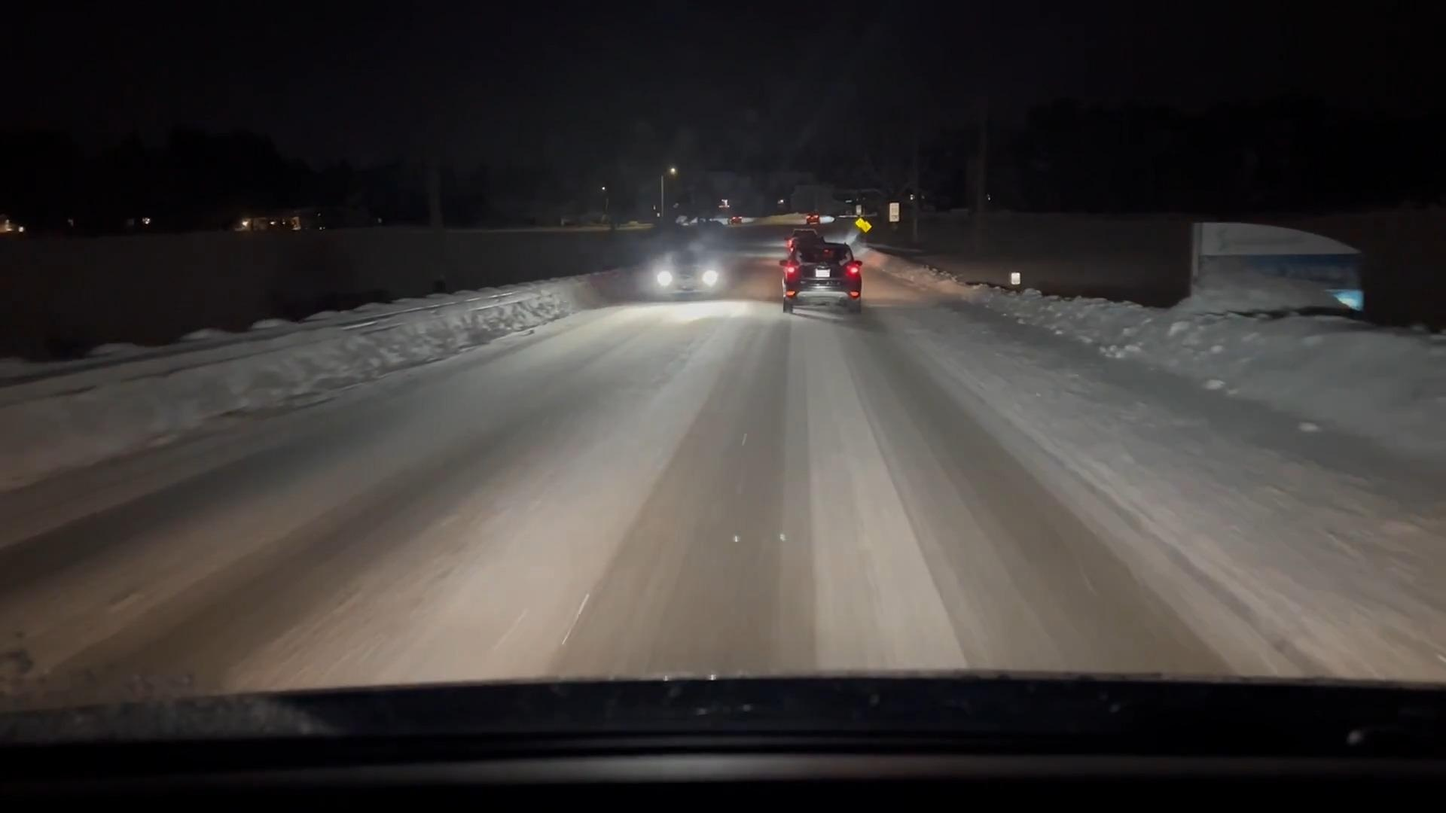Snow: (0, 219, 1446, 702)
